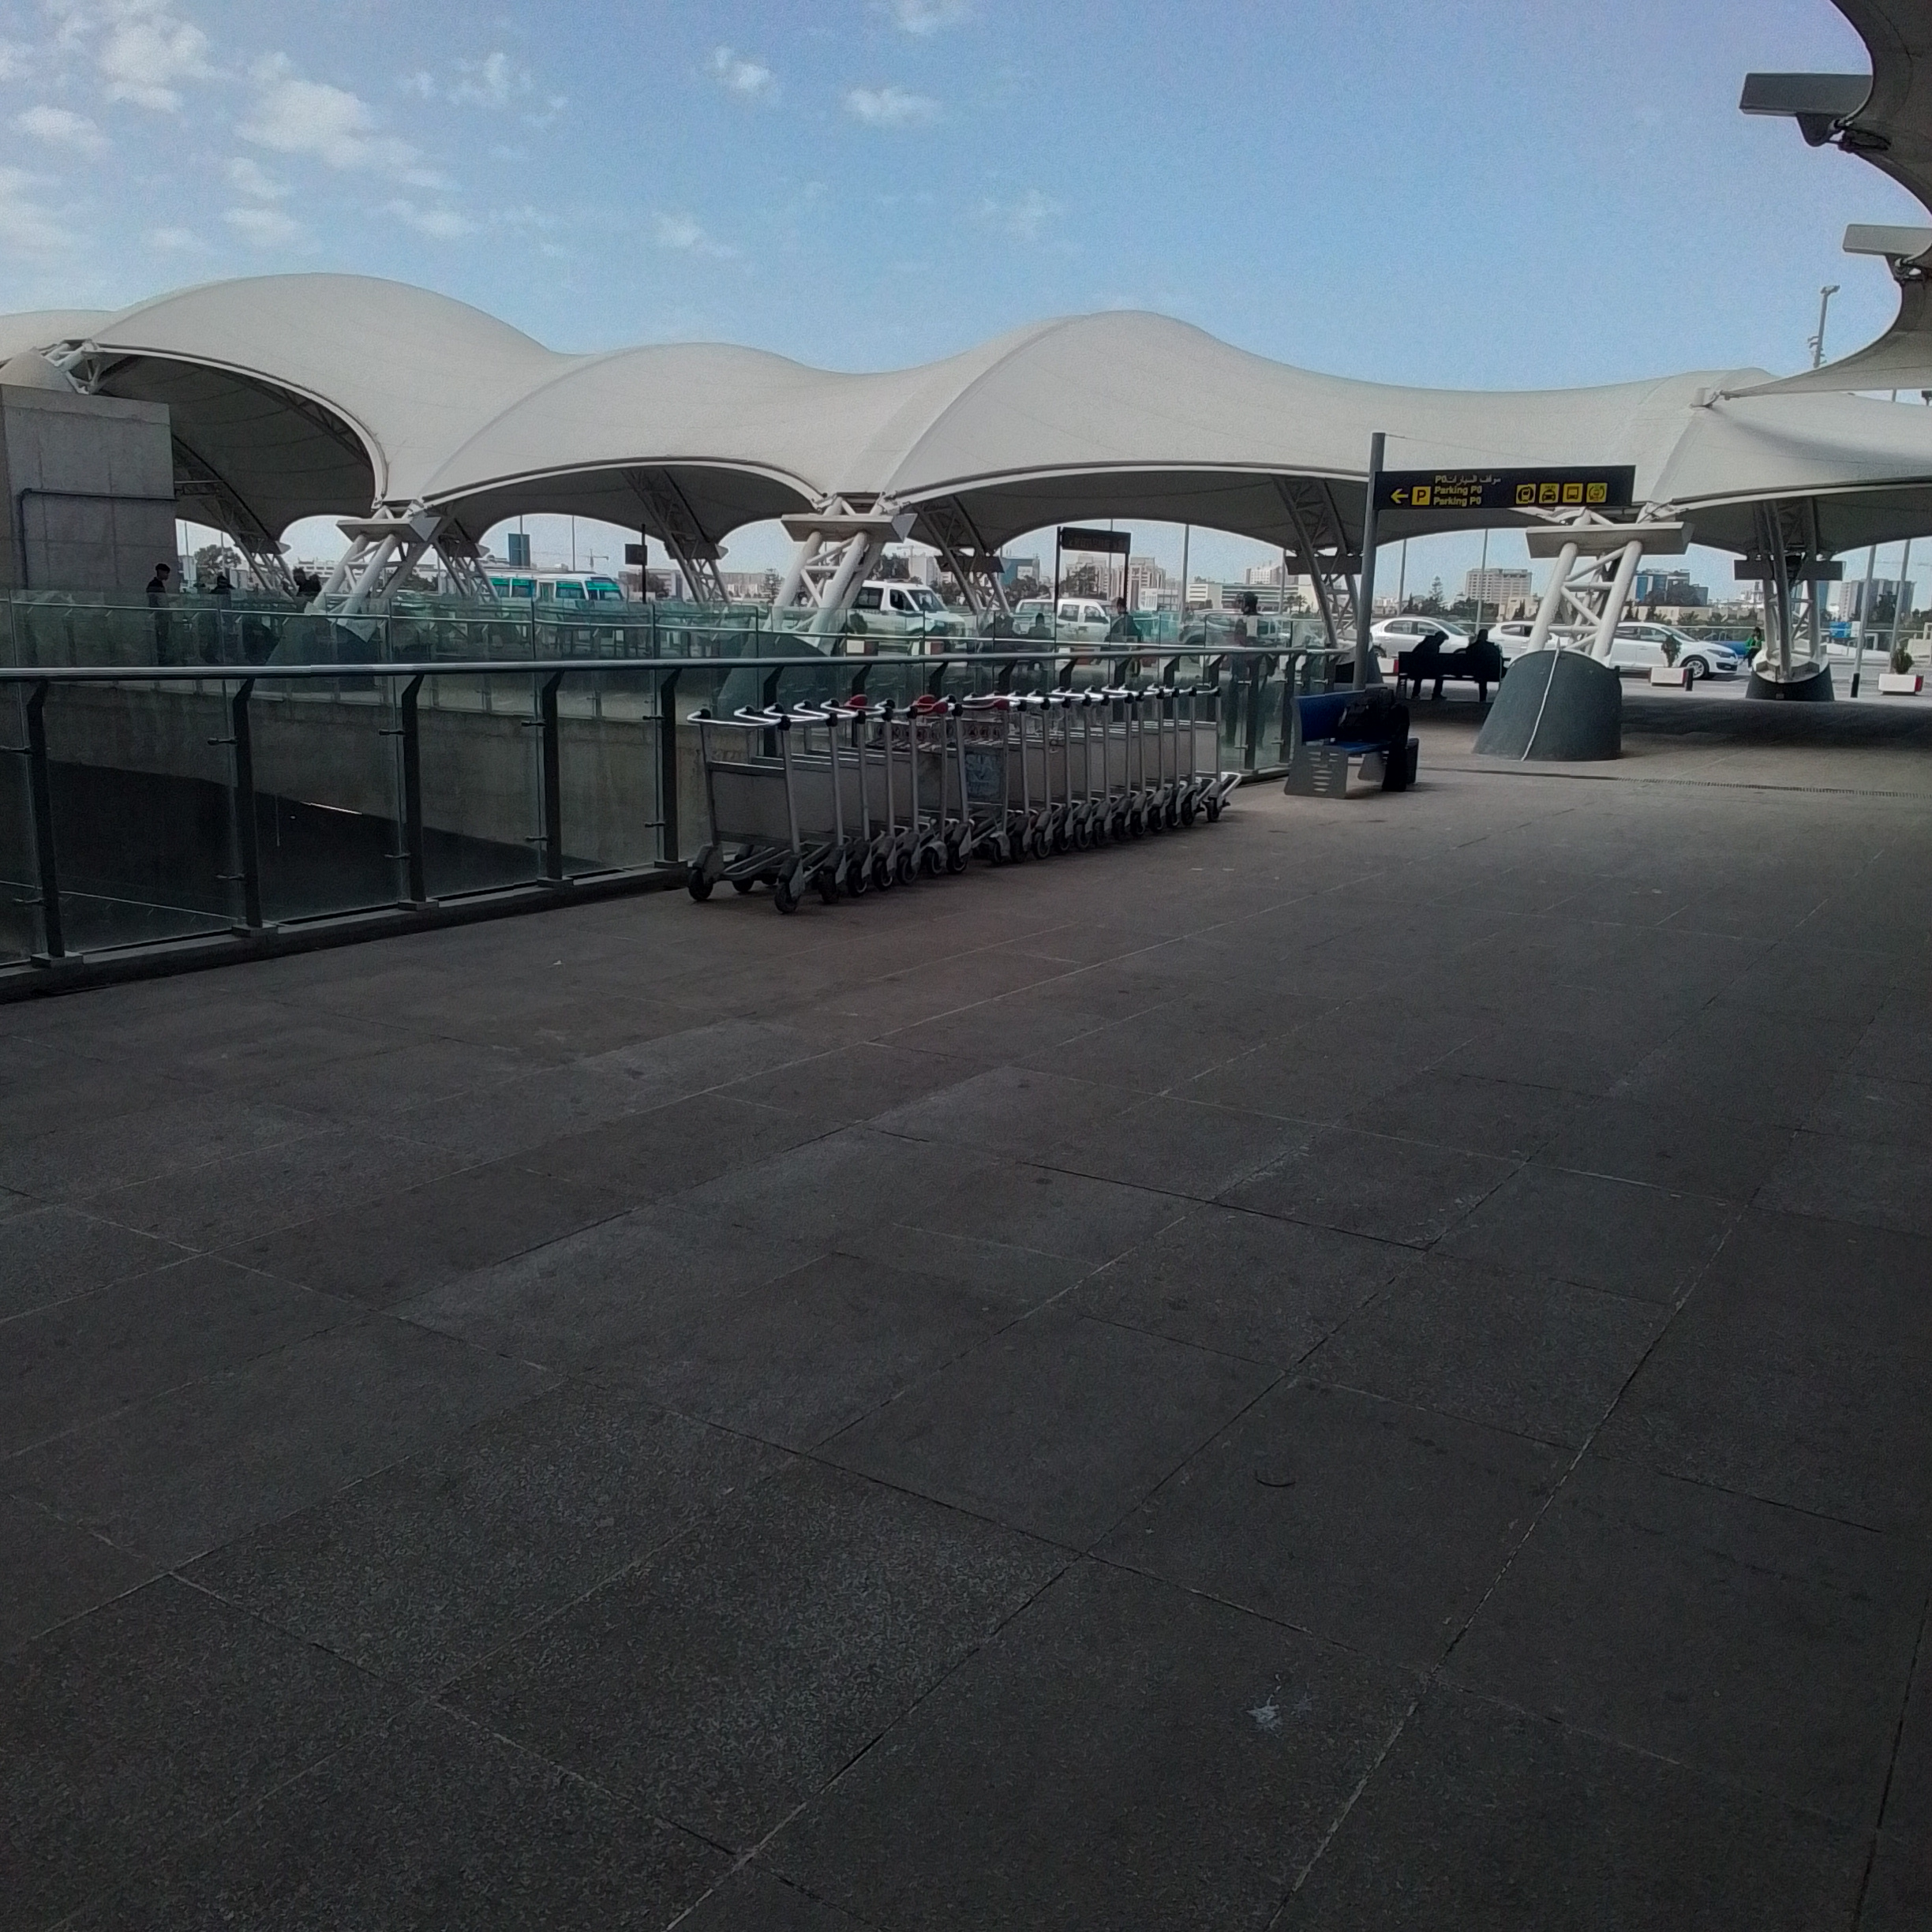airport-trolley: (678, 709, 824, 918), (789, 686, 920, 895), (731, 701, 860, 906), (761, 697, 888, 899), (862, 686, 975, 890), (920, 685, 1016, 867), (1118, 683, 1215, 821), (1148, 674, 1240, 819), (982, 688, 1062, 855), (1023, 688, 1104, 849), (1097, 679, 1187, 823), (1067, 681, 1146, 833)
